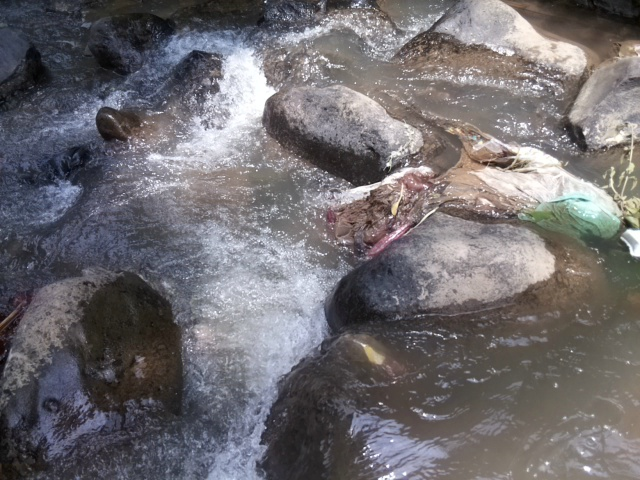Sampah_Plastik: (332, 146, 622, 251)
